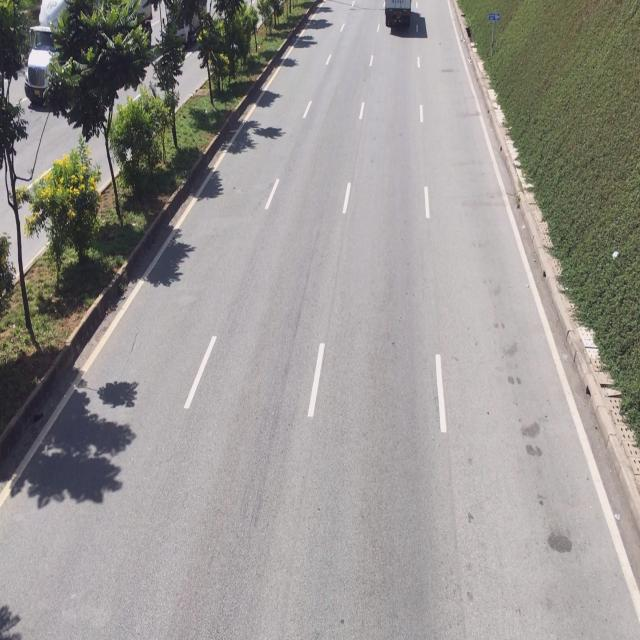truck: (383, 0, 413, 30)
